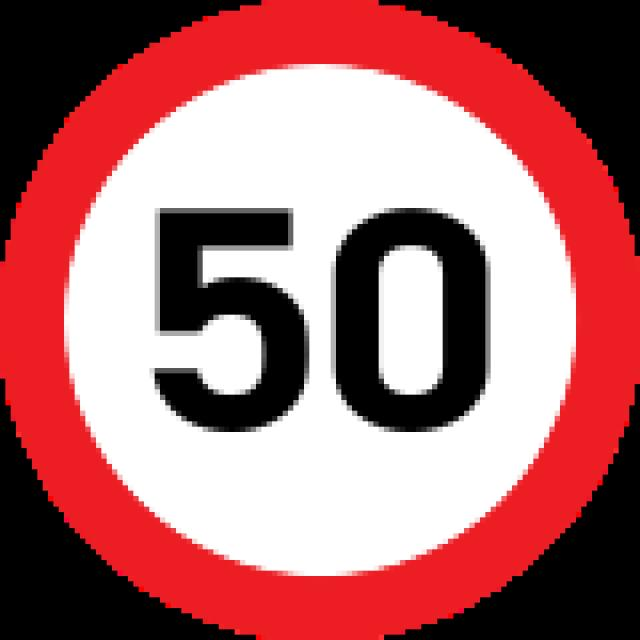Speed Limit -50-: (133, 181, 509, 453)
